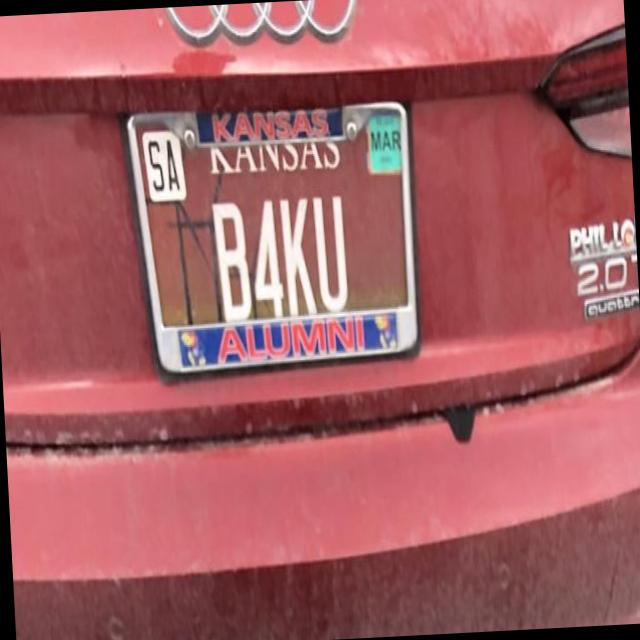LicensePlate: (128, 104, 417, 375)
